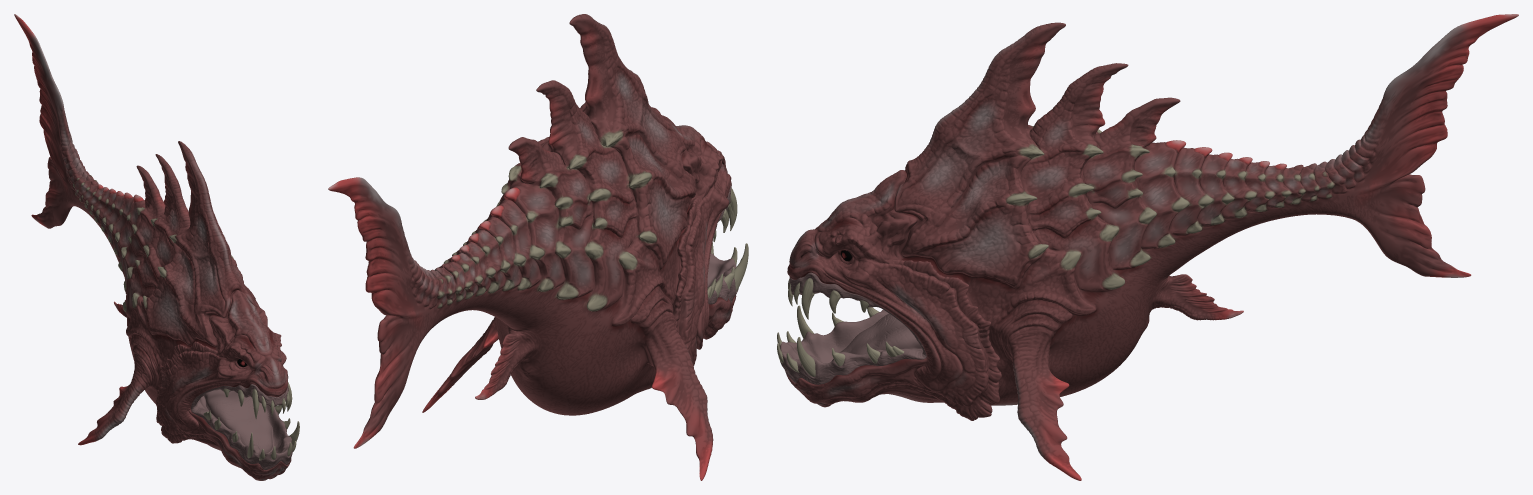
3 renders of one model, left to right at view 1: azimuth 30°, elevation 25°; view 2: azimuth 150°, elevation 25°; view 3: azimuth 270°, elevation 25°, orthographic. The views are drawn at different scales.
Visible parts, largest first — view 1: Corpo; view 2: Corpo; view 3: Corpo.
Boxes of the visible parts, x1=… form: Corpo: x1=14, y1=14, x2=299, y2=480; Corpo: x1=328, y1=14, x2=748, y2=480; Corpo: x1=777, y1=14, x2=1518, y2=480.
Bounding box in the file's own units: 4.05 × 5.94 × 9.9.
